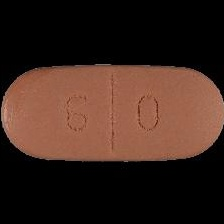50090-1057: (0, 0, 224, 224)
